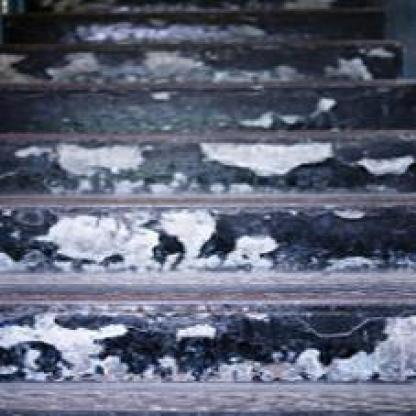stair_up: (32, 123, 346, 339)
